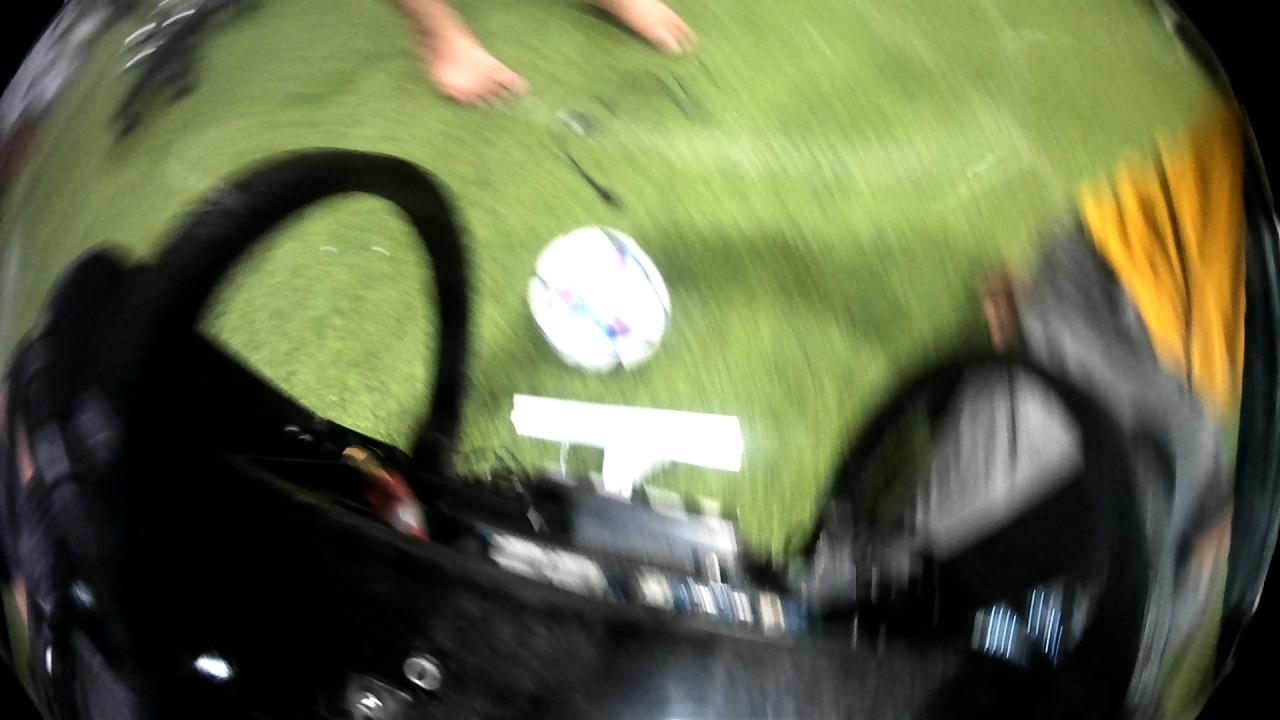ball: (523, 219, 676, 377)
